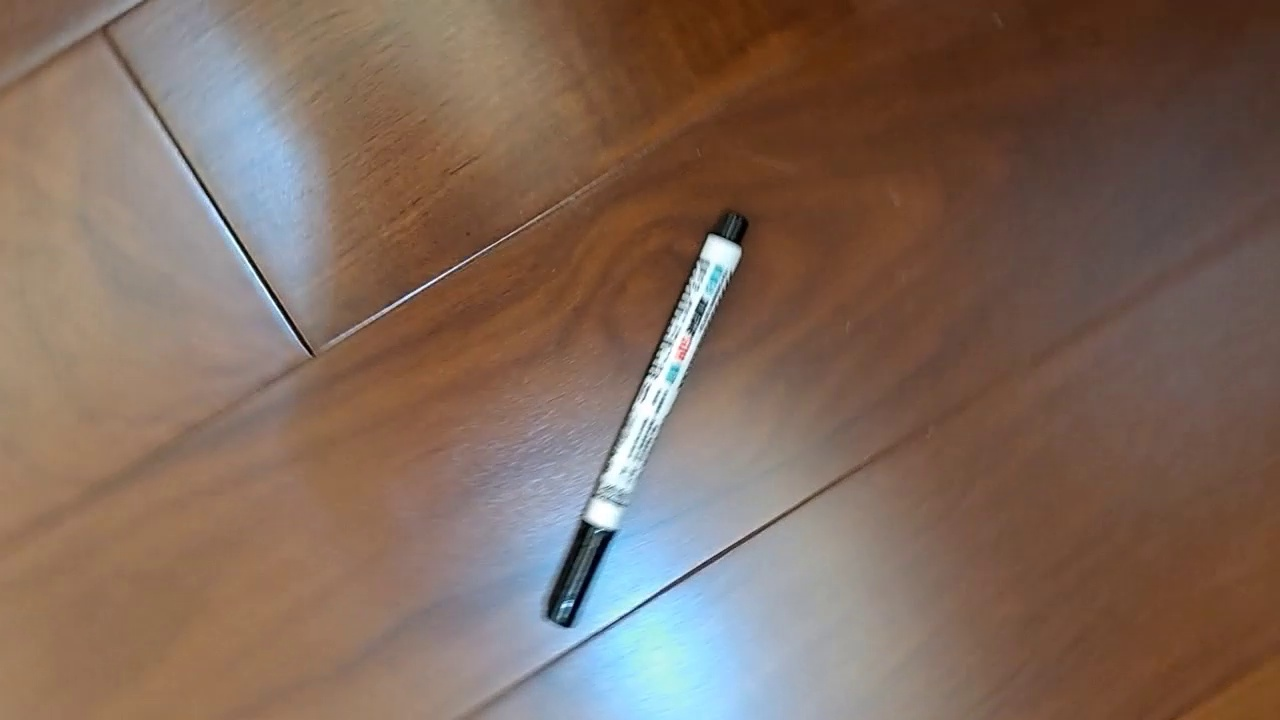pen: (541, 207, 750, 629)
